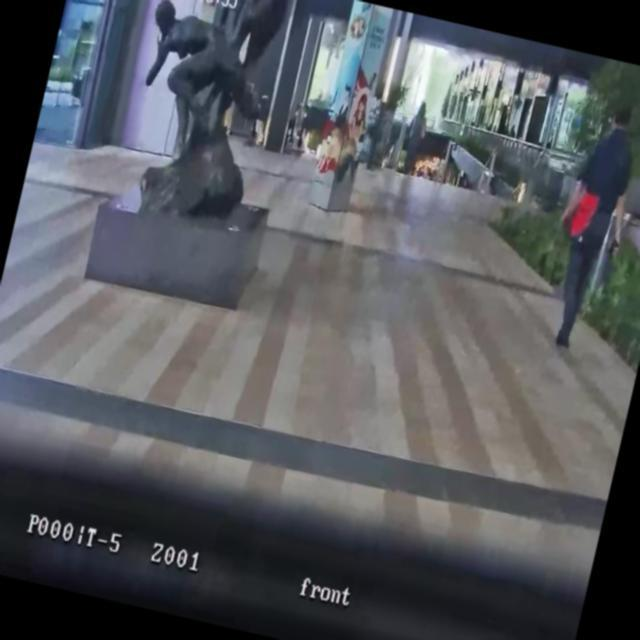person: (531, 95, 640, 357), (400, 99, 432, 178)
